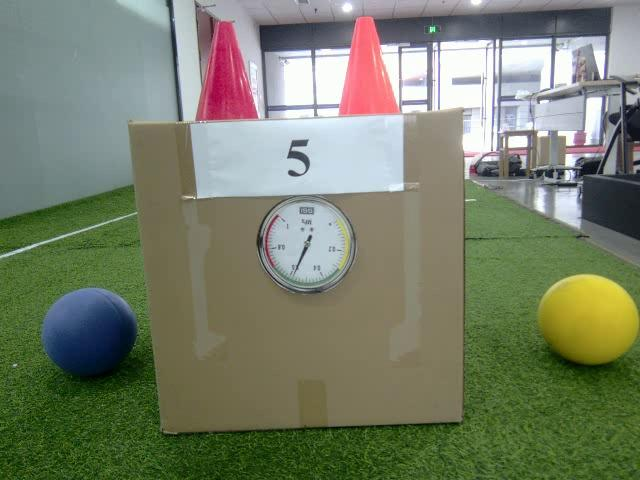5: (286, 137, 310, 176)
Dashboard: (256, 195, 356, 296)
blue_ball: (42, 288, 136, 378)
orange_barrel: (337, 16, 401, 116)
red_barrel: (196, 20, 262, 121)
ssi: (299, 206, 314, 214)
yellow_ball: (534, 273, 640, 366)
